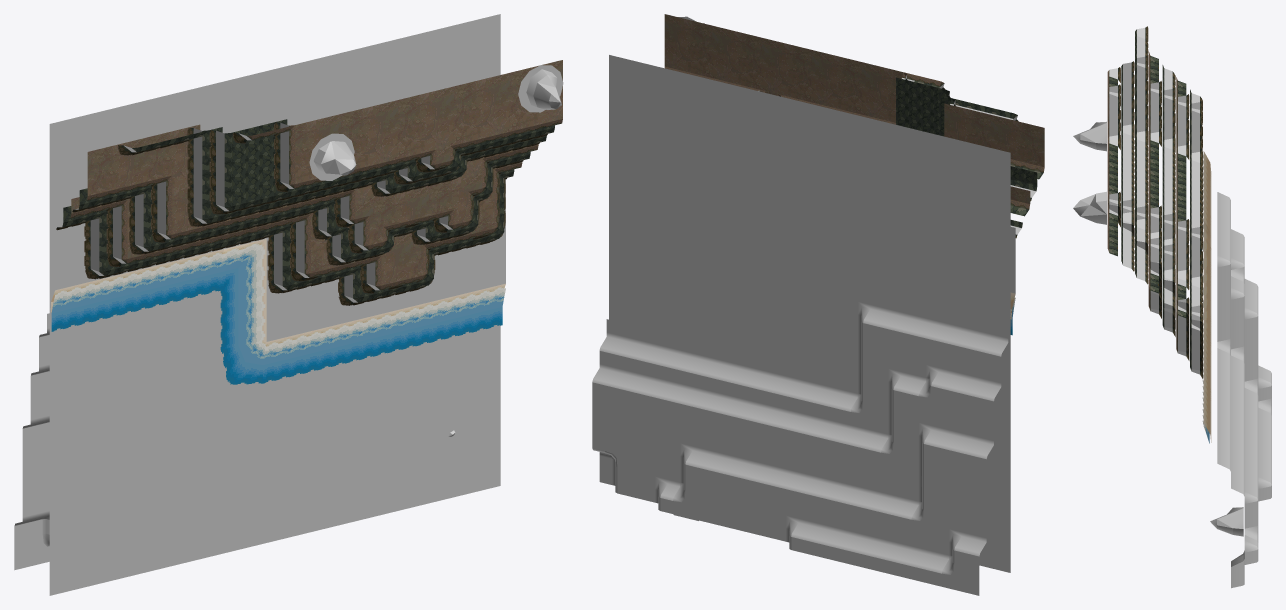
The model's file is Barrier-Reef_08_04.obj.
3 views of the same model, side by side, from view 1: azimuth 30°, elevation 25°; view 2: azimuth 150°, elevation 25°; view 3: azimuth 270°, elevation 25° (orthographic). The views are drawn at different scales.
Parts seen in each view (by area): view 1: map; view 2: map; view 3: map.
Boxes of the visible parts, x1,y1,x2,y2 form: map: (14,14,563,595); map: (592,14,1044,595); map: (1073,26,1271,588).
Bounding box in the file's own units: 32 × 32.23 × 14.54.
